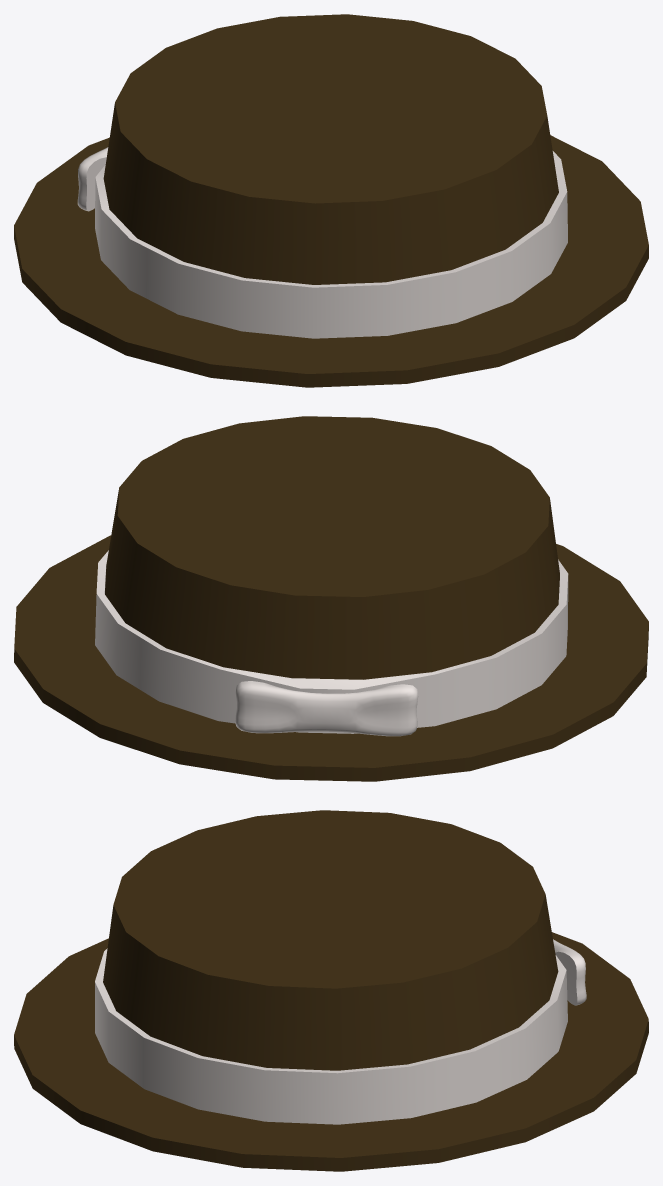
Rendered from strawboaterfix.fbx.
3 renders of one model, top to bottom at view 1: azimuth 30°, elevation 25°; view 2: azimuth 150°, elevation 25°; view 3: azimuth 270°, elevation 25°, orthographic.
Visible parts, largest first — view 1: Circle.009, Circle.008, Circle.024; view 2: Circle.009, Circle.008, Circle.024; view 3: Circle.009, Circle.008, Circle.024.
Boxes of the visible parts, bbox=[...] form: Circle.009: bbox=[14, 14, 648, 387]; Circle.008: bbox=[95, 151, 567, 338]; Circle.024: bbox=[77, 147, 108, 211]; Circle.009: bbox=[14, 416, 648, 781]; Circle.008: bbox=[95, 550, 568, 733]; Circle.024: bbox=[235, 681, 418, 736]; Circle.009: bbox=[14, 810, 648, 1171]; Circle.008: bbox=[95, 948, 567, 1124]; Circle.024: bbox=[553, 939, 586, 1005].
Size of the model in its own units: 73.99 by 19.12 by 74.
